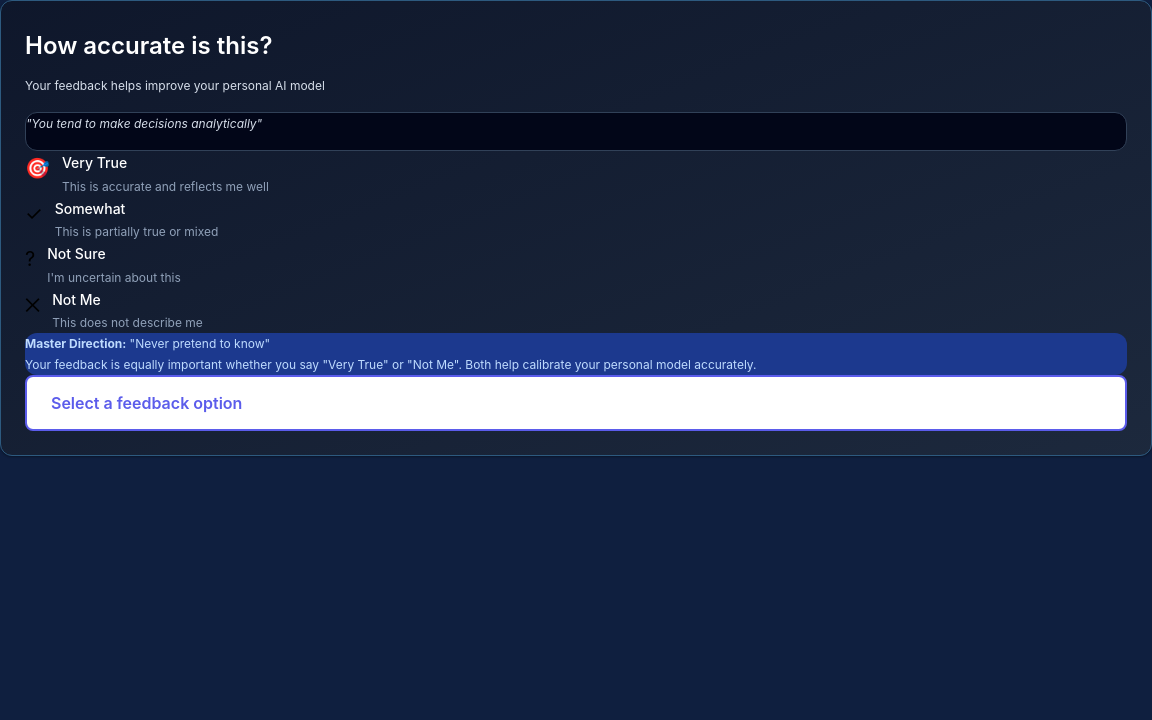
Test: FeedbackWidget Component › Error Handling › should handle generic errors
The width and height of the screenshot is (1152, 720).
Click the button "? Not Sure I'm uncertain about this".
click(76, 254)  # box [25, 242, 1127, 288]
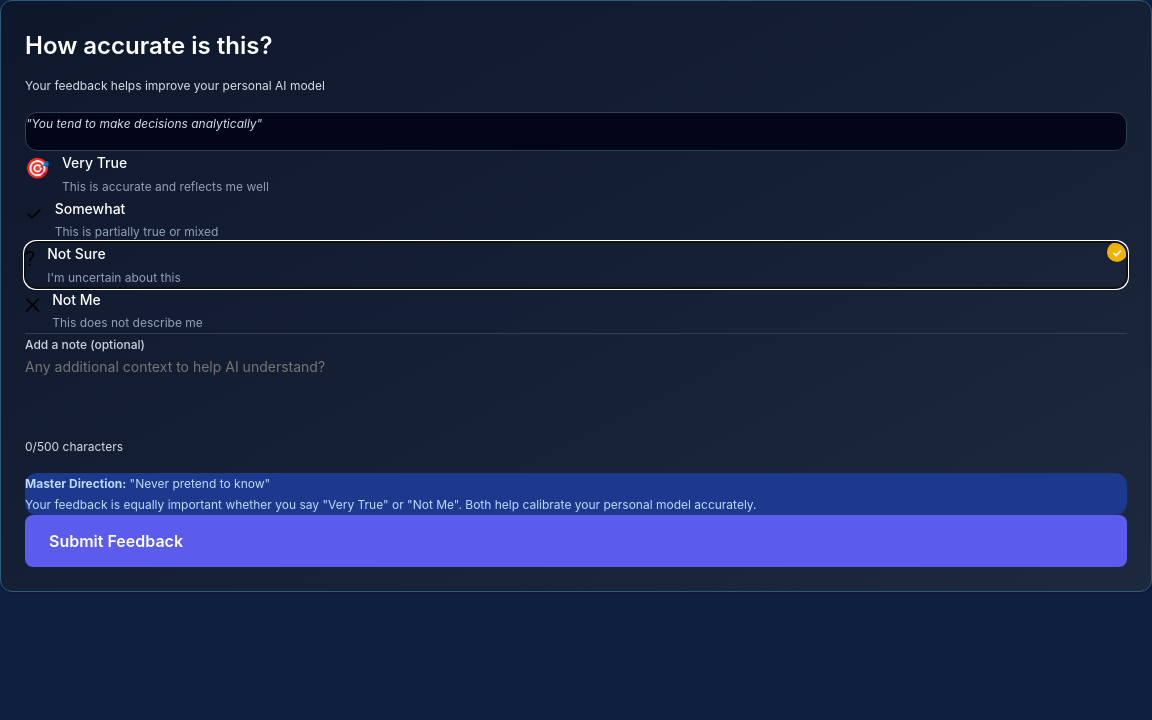
Click the button "Submit Feedback".
click(116, 541)  # box [25, 515, 1127, 567]
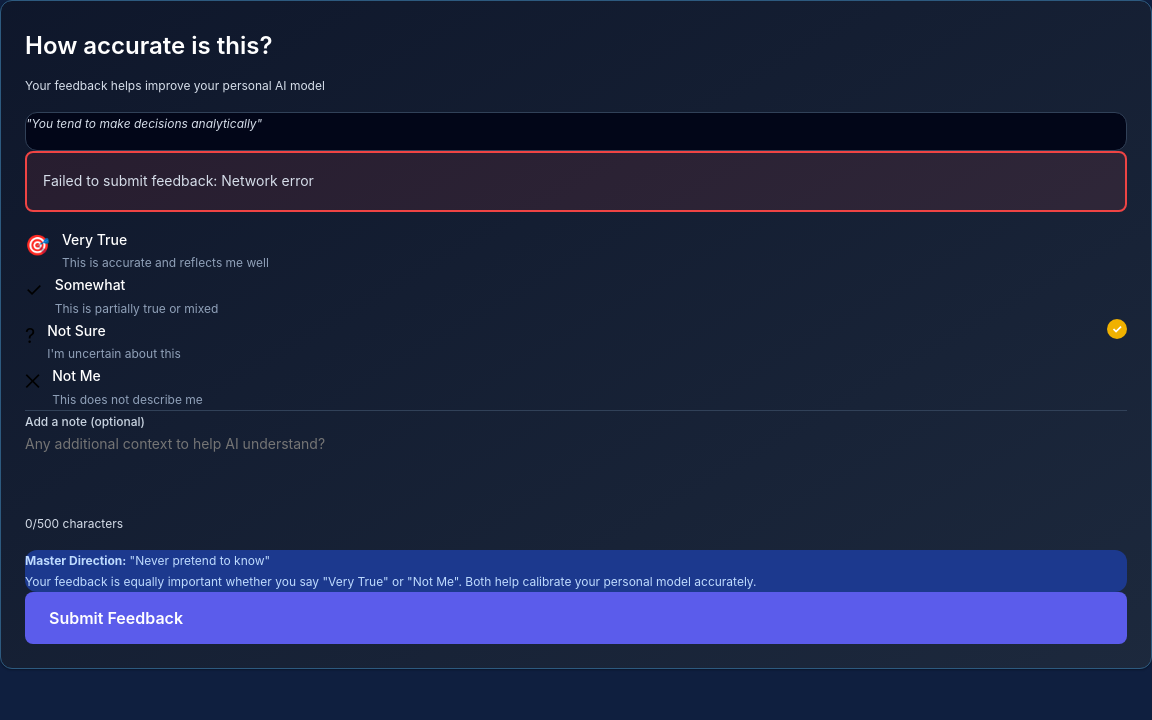
Expected: the text "Failed to submit feedback: Network error" is shown, [43, 172, 314, 189]
